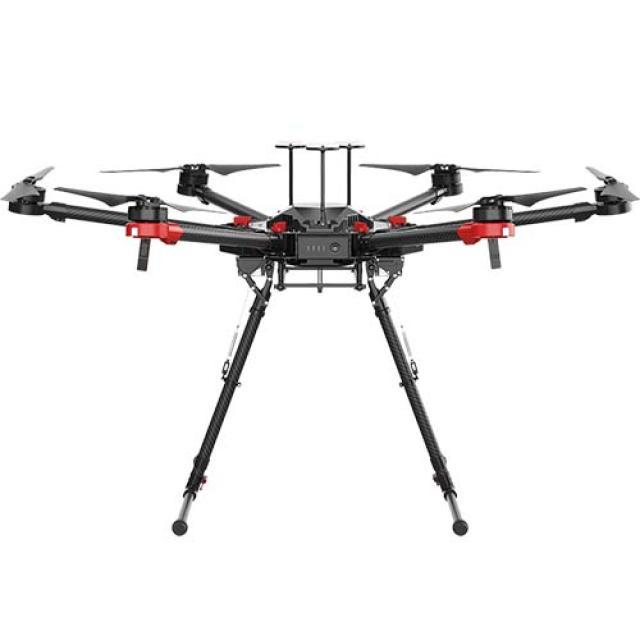drone: (1, 137, 640, 328)
